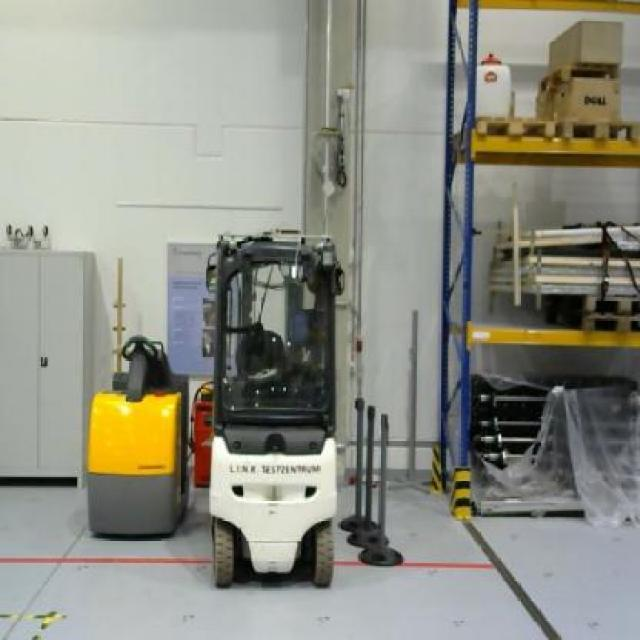box: (534, 75, 622, 123), (548, 20, 624, 71)
